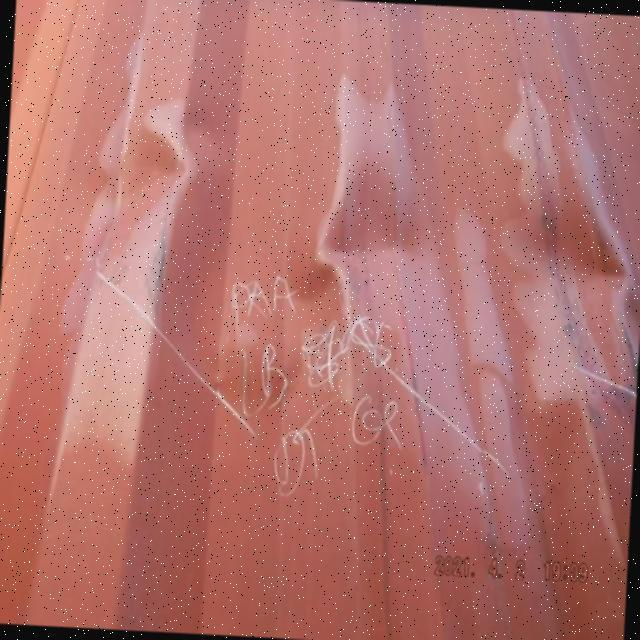dent: (38, 73, 640, 462)
